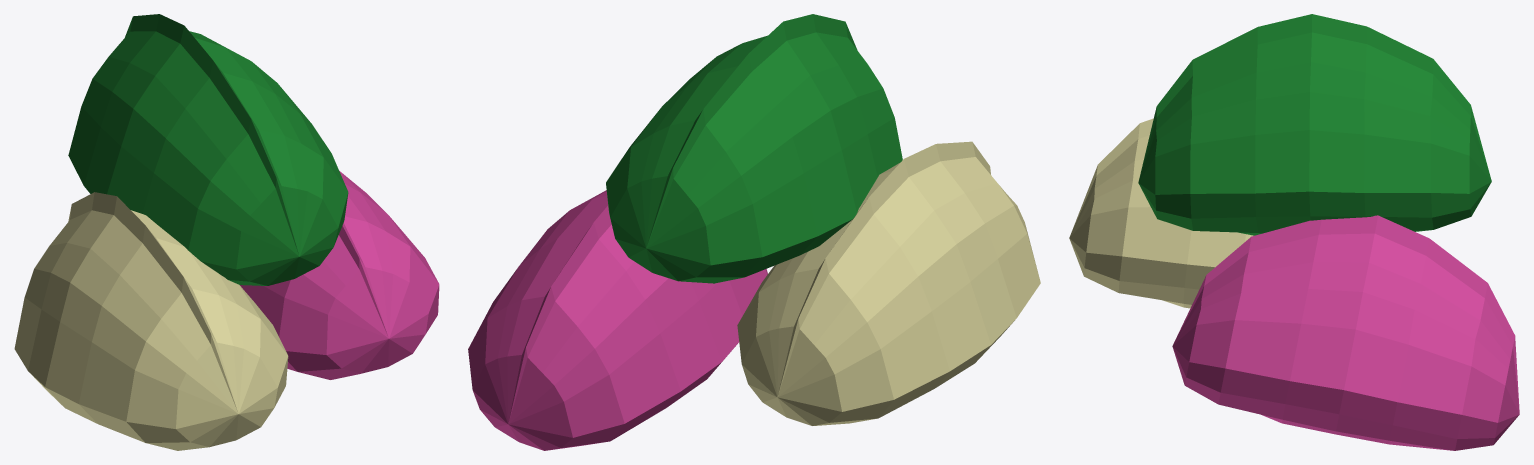
The model's file is rice cake_02.fbx.
The picture shows the model from 3 angles, left to right: view 1: azimuth 30°, elevation 25°; view 2: azimuth 150°, elevation 25°; view 3: azimuth 270°, elevation 25°; orthographic projection. The views are drawn at different scales.
Parts seen in each view (by area): view 1: ricecake_003, ricecake_01, ricecake_002; view 2: ricecake_01, ricecake_003, ricecake_002; view 3: ricecake_002, ricecake_003, ricecake_01.
Boxes of the visible parts, bbox=[...] form: ricecake_003: bbox=[68, 14, 348, 285]; ricecake_01: bbox=[14, 192, 288, 450]; ricecake_002: bbox=[240, 171, 439, 379]; ricecake_01: bbox=[737, 141, 1040, 425]; ricecake_003: bbox=[606, 14, 902, 283]; ricecake_002: bbox=[468, 190, 767, 450]; ricecake_002: bbox=[1172, 215, 1519, 450]; ricecake_003: bbox=[1138, 14, 1491, 235]; ricecake_01: bbox=[1069, 118, 1253, 308].
Bounding box in the file's own units: 120 × 108 × 122.
